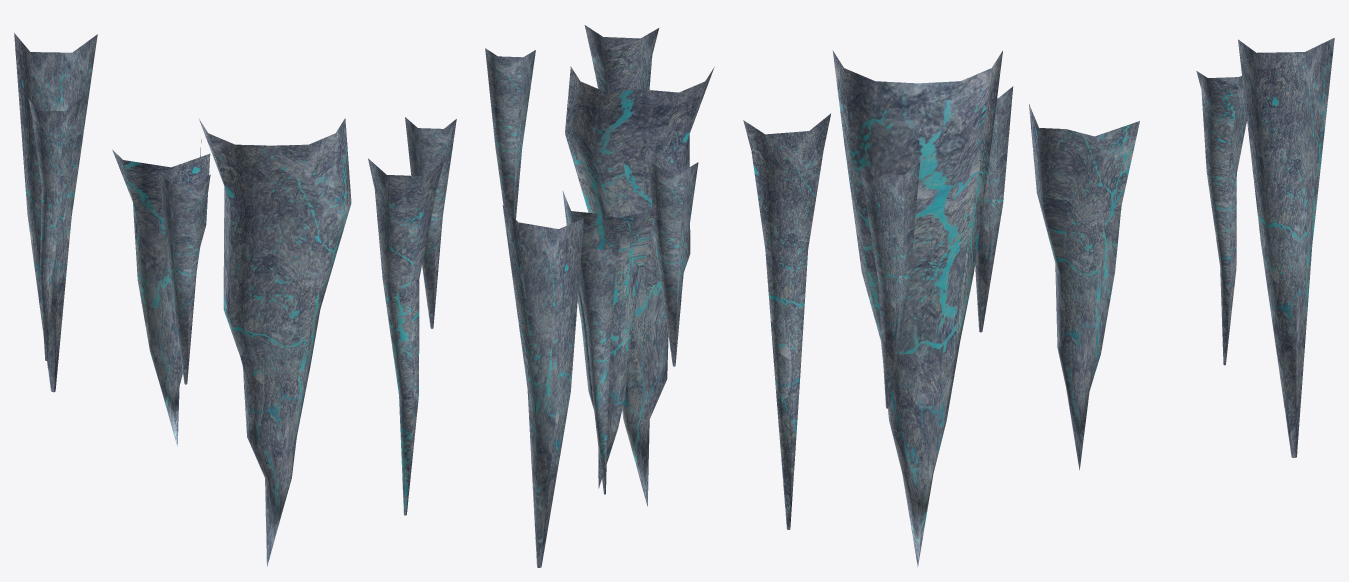
File: icicle_up_05.glb
3 views of the same model, side by side, from view 1: azimuth 30°, elevation 25°; view 2: azimuth 150°, elevation 25°; view 3: azimuth 270°, elevation 25° (orthographic). The views are drawn at different scales.
Parts seen in each view (by area): view 1: icicle_up_05; view 2: icicle_up_05; view 3: icicle_up_05.
Boxes of the visible parts, left/top/right/bottom form: icicle_up_05: left=14, top=33, right=456, bottom=566; icicle_up_05: left=485, top=25, right=714, bottom=567; icicle_up_05: left=743, top=38, right=1334, bottom=567.
Size of the model in its own units: 14.38 by 22.73 by 23.4.
Materials: 1 (1 with a texture image).
